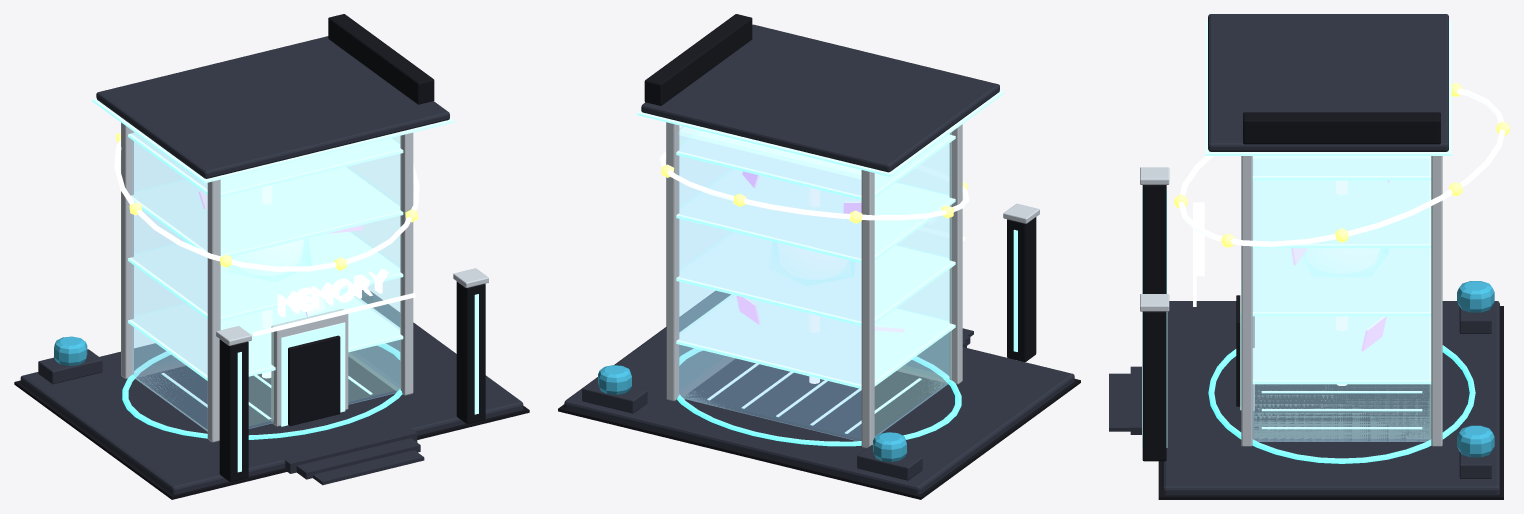
The model's file is memory-house.glb.
3 renders of one model, left to right at view 1: azimuth 30°, elevation 25°; view 2: azimuth 150°, elevation 25°; view 3: azimuth 270°, elevation 25°, orthographic. The views are drawn at different scales.
Visible parts, largest first — view 1: monolith, plinth.001, roof_slab.001, band_2, band_1, band_0, door.001, band_3, roof_fin, pylon_r, pylon_l, column_lf (+19 smaller); view 2: monolith, plinth.001, roof_slab.001, band_0, band_1, band_2, band_3, roof_fin, column_lb, column_rb, pylon_l, column_lf (+11 smaller); view 3: monolith, plinth.001, roof_slab.001, band_0, band_2, band_1, roof_fin, band_3, pylon_r, halo, column_rf, column_rb (+20 smaller).
Part boxes in pixels (x1,y1,x2,y2): monolith: (132,131,400,431); plinth.001: (20,292,523,494); roof_slab.001: (96,36,449,178); band_2: (131,166,403,256); band_1: (128,231,403,321); band_0: (128,291,403,380); door.001: (288,335,340,426); band_3: (128,132,403,197); roof_fin: (328,14,434,104); pylon_r: (456,281,485,424); pylon_l: (219,339,248,481); column_lf: (207,179,220,442); monolith: (678,126,951,441); plinth.001: (564,291,1074,494); roof_slab.001: (641,24,999,172); band_0: (676,294,955,388); band_1: (676,231,955,325); band_2: (676,168,955,262); band_3: (676,130,955,200); roof_fin: (644,14,752,105); column_lb: (861,170,874,448); column_rb: (666,122,679,401); pylon_l: (1007,217,1036,361); column_lf: (949,124,962,384); monolith: (1252,156,1431,441); plinth.001: (1162,301,1499,495); roof_slab.001: (1208,14,1448,151); band_0: (1252,316,1431,384); band_2: (1252,180,1431,248); band_1: (1252,248,1431,316); roof_fin: (1243,112,1440,144); band_3: (1252,156,1431,180); pylon_r: (1142,311,1166,461); halo: (1174,83,1509,247); column_rf: (1241,156,1252,446); column_rb: (1431,156,1442,446).
Size of the model in its own units: 16.9 by 14.4 by 14.97.
